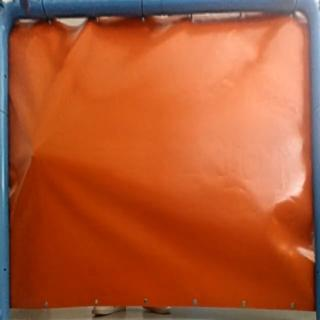Hit-hRxx: (28, 145, 43, 164)
